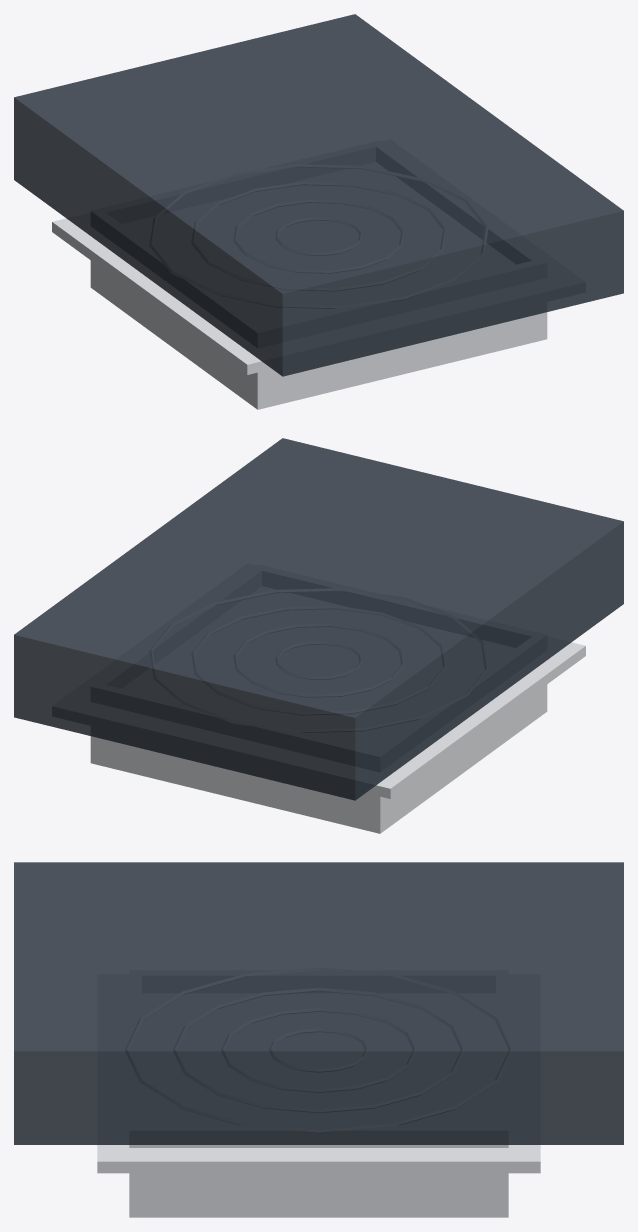
Rendered from roof_fan_maxxair_7500k.far.glb.
3 views of the same model, one above another, from view 1: azimuth 30°, elevation 25°; view 2: azimuth 150°, elevation 25°; view 3: azimuth 270°, elevation 25° (orthographic). The views are drawn at different scales.
Parts seen in each view (by area): view 1: lid, roof_fan_maxxair_7500k; view 2: lid, roof_fan_maxxair_7500k; view 3: lid, roof_fan_maxxair_7500k.
Part boxes in pixels (x1,y1,x2,y2): lid: (14, 14, 623, 376); roof_fan_maxxair_7500k: (52, 141, 585, 409); lid: (14, 438, 623, 800); roof_fan_maxxair_7500k: (59, 565, 585, 833); lid: (14, 862, 623, 1144); roof_fan_maxxair_7500k: (97, 981, 540, 1217).
Size of the model in its own units: 0.4191 by 0.187 by 0.5715.
